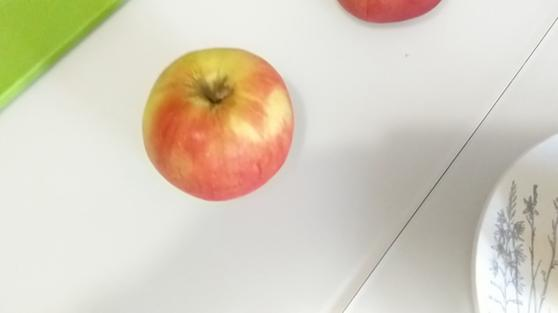apple: (142, 49, 295, 202)
